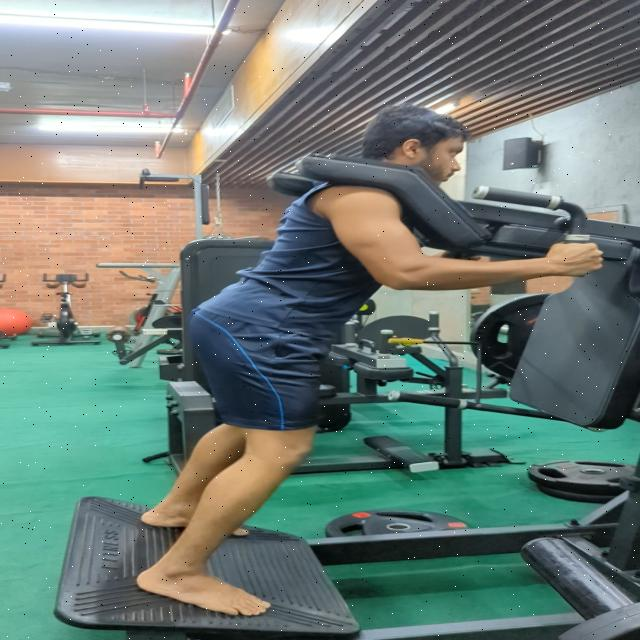Normal_SquatsWithBarbell: (126, 97, 640, 640)
